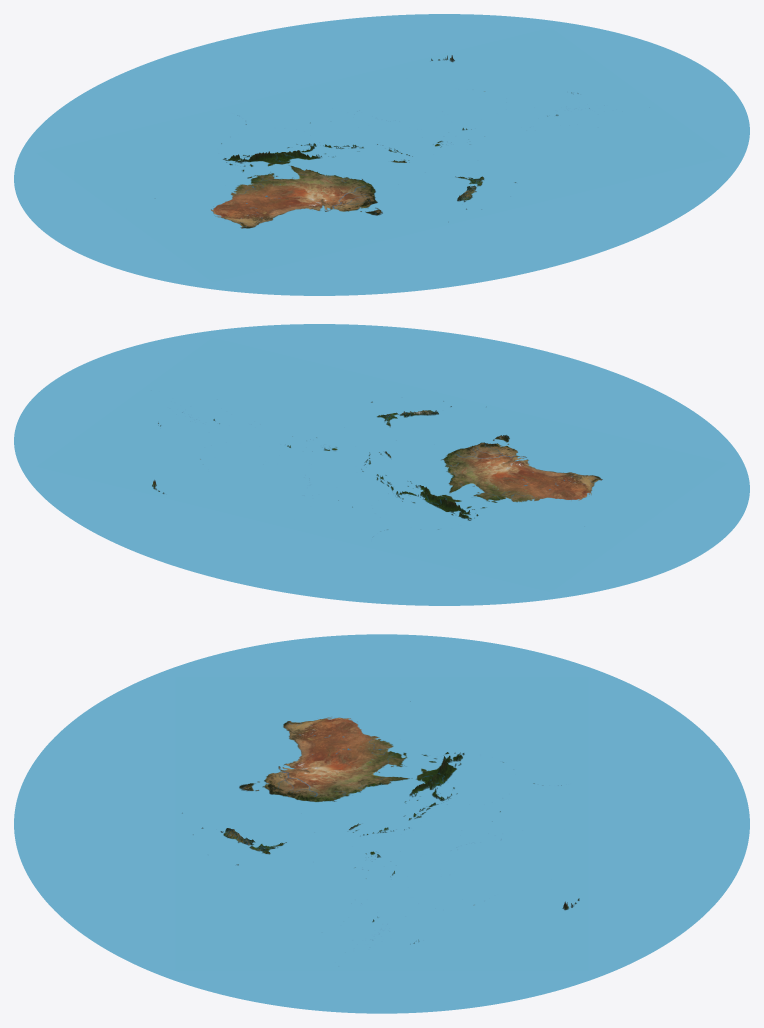
Rendered from oceania-terrain.glb.
The picture shows the model from 3 angles, top to bottom: view 1: azimuth 30°, elevation 25°; view 2: azimuth 150°, elevation 25°; view 3: azimuth 270°, elevation 25°; orthographic projection. The views are drawn at different scales.
Visible parts, largest first — view 1: Superfície geográfica; view 2: Superfície geográfica; view 3: Superfície geográfica.
Part boxes in pixels (x1,y1,x2,y2): Superfície geográfica: (14,14,749,295); Superfície geográfica: (14,324,749,605); Superfície geográfica: (14,634,749,1013).
Size of the model in its own units: 2.19 by 0.0265 by 1.8.
Materials: 2 (1 with a texture image).
